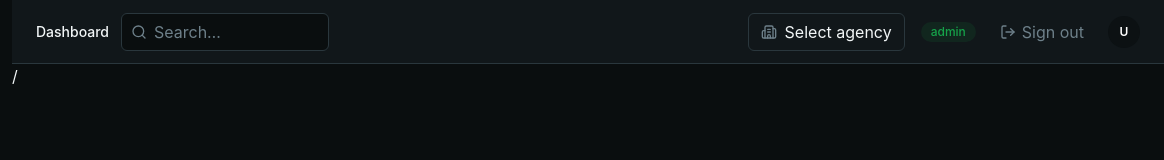
Test: Topbar navigation search › navigates to the first match on Enter
Type "candidates" into the search field named "search navigation".
click(225, 32); type("candidates")  # box left=121, top=12, right=329, bottom=50
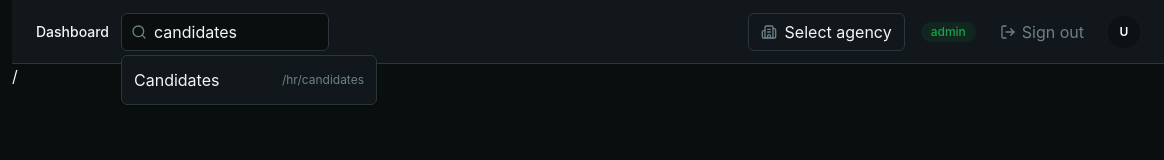
Press Enter in the search field named "search navigation", box left=121, top=12, right=329, bottom=50
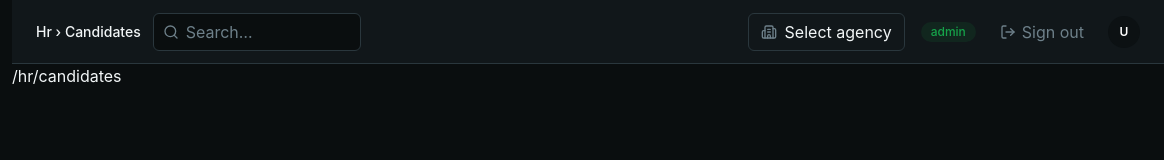
Expected: the text with test id "location" reads "/hr/candidates", left=12, top=66, right=122, bottom=86
